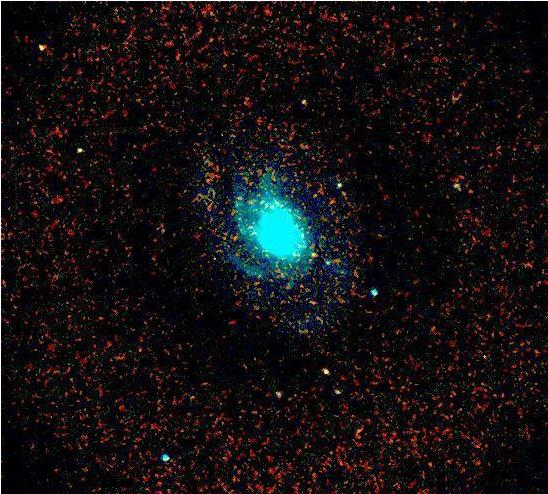star: (297, 238, 327, 268)
